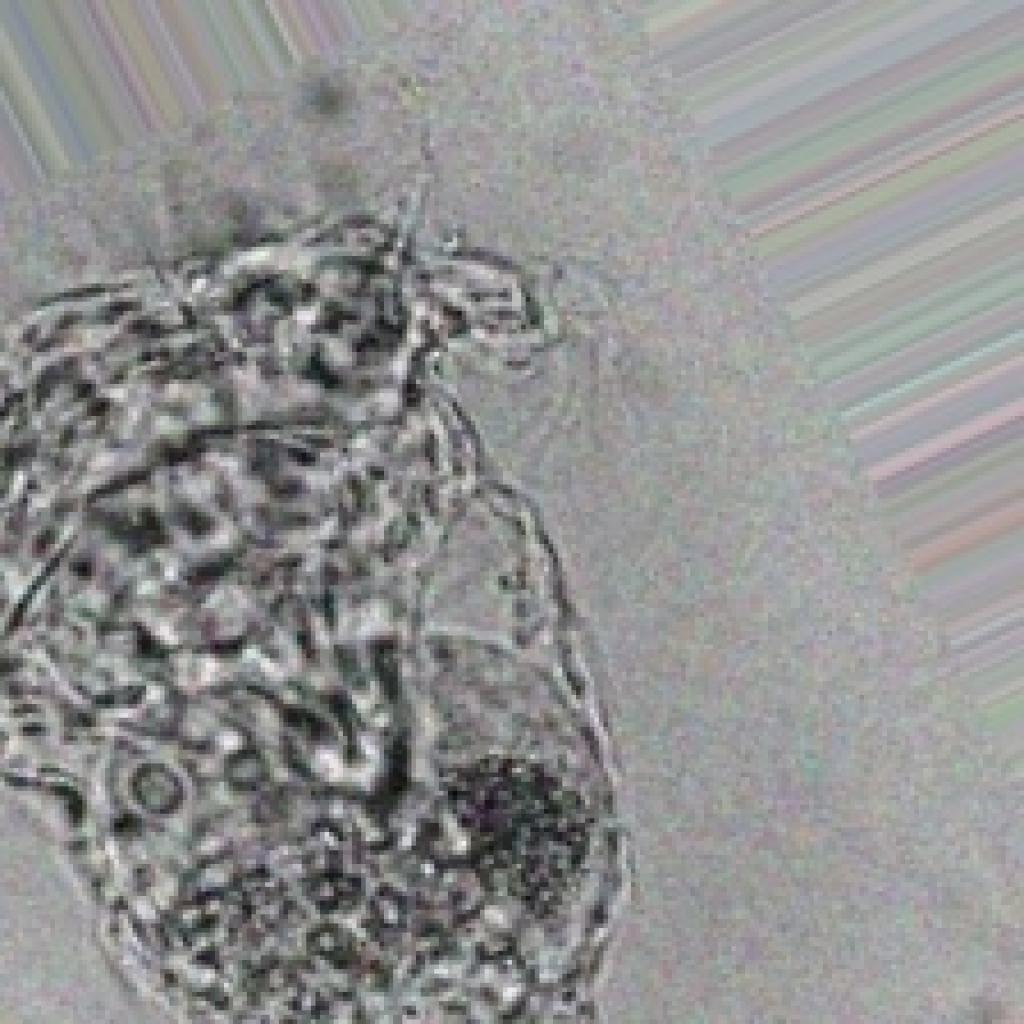Rotifer: (0, 45, 677, 1024)
